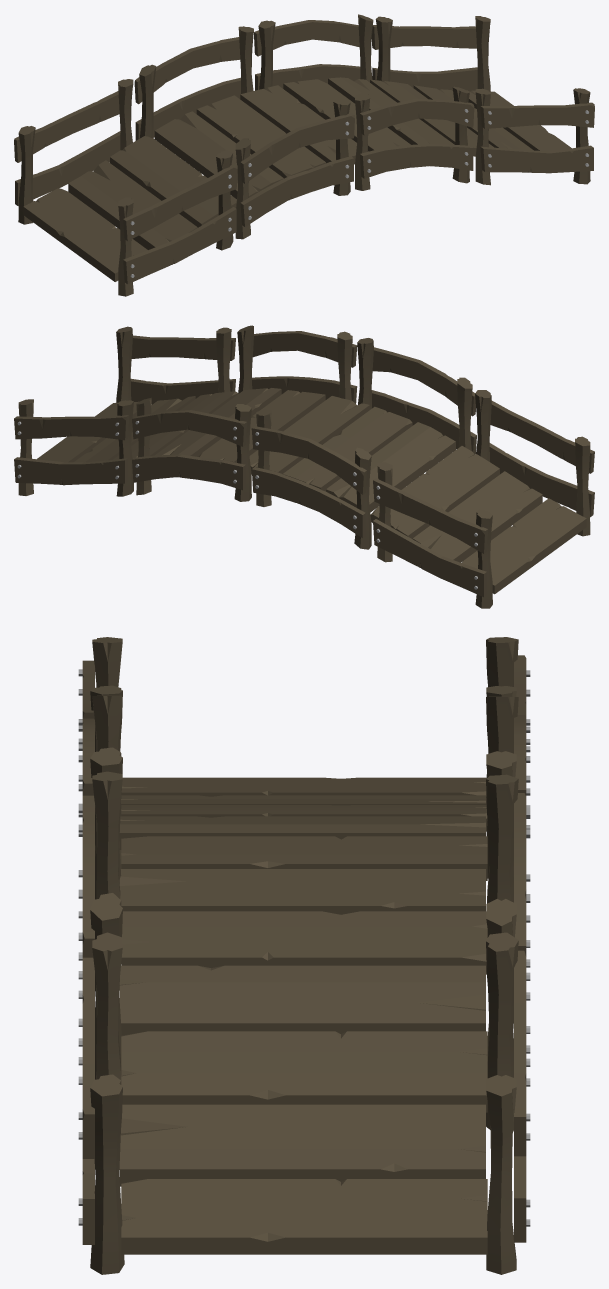
Rendered from pont.fbx.
3 renders of one model, top to bottom at view 1: azimuth 30°, elevation 25°; view 2: azimuth 150°, elevation 25°; view 3: azimuth 270°, elevation 25°, orthographic. The views are drawn at different scales.
Parts seen in each view (by area): view 1: pont; view 2: pont; view 3: pont.
Boxes of the visible parts, x1,y1,x2,y2 form: pont: (14,14,594,296); pont: (14,325,594,608); pont: (78,637,530,1274).
Size of the model in its own units: 43.59 by 12.34 by 18.08.
